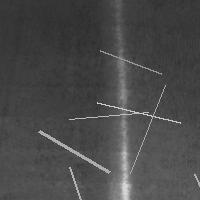scratches: (125, 80, 170, 178), (34, 126, 114, 177), (114, 2, 132, 198), (92, 98, 185, 128), (95, 46, 166, 79), (64, 107, 153, 124), (64, 162, 91, 200), (189, 169, 200, 200)
